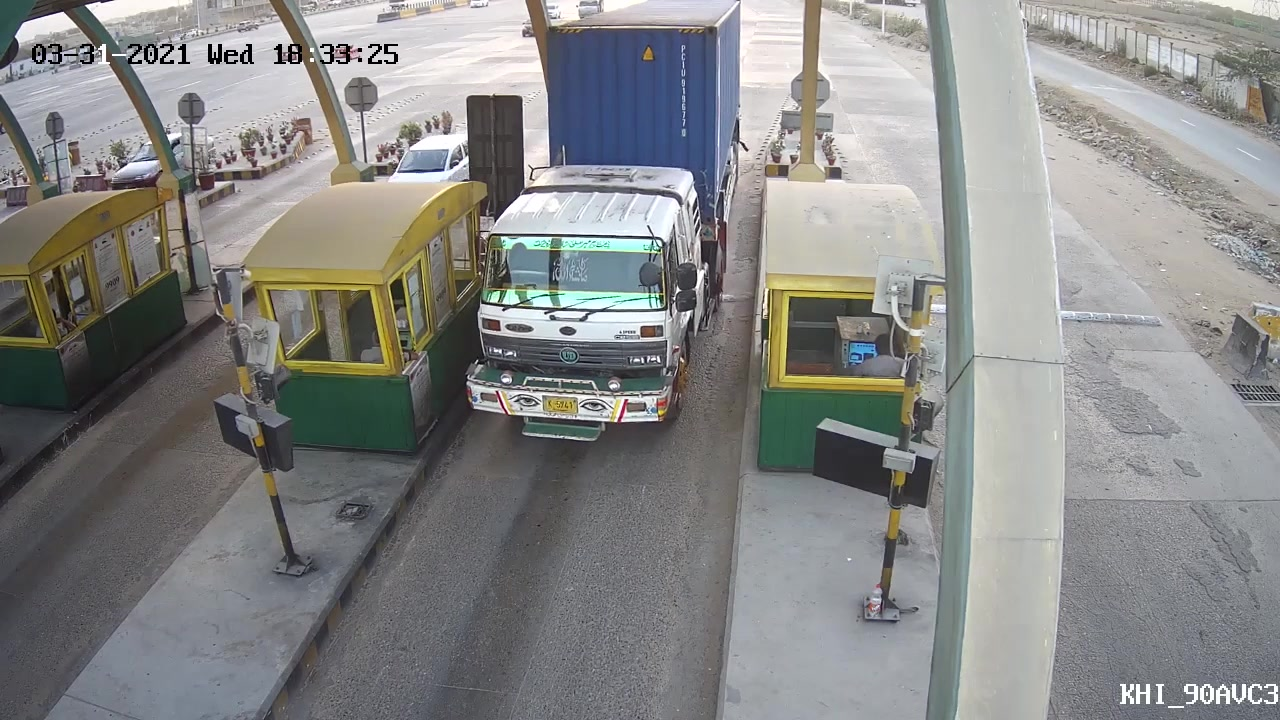F6: (451, 11, 749, 445)
